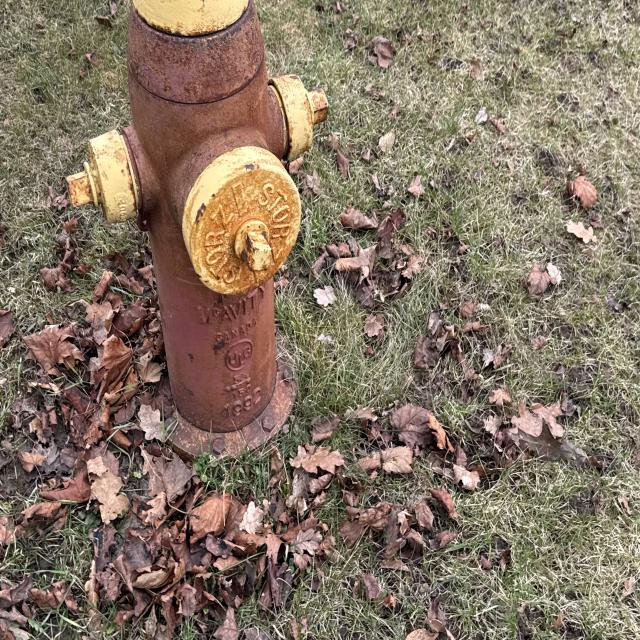Fire hydrant: (62, 1, 334, 465)
